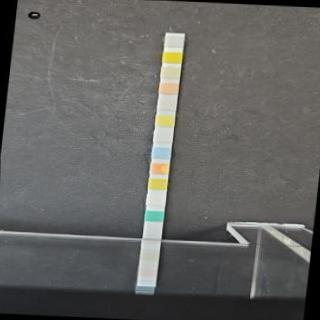mark: (160, 66, 180, 80), (151, 146, 171, 160), (146, 194, 166, 207), (158, 82, 179, 94), (150, 162, 169, 175), (163, 35, 183, 47), (162, 51, 182, 63), (154, 114, 174, 126), (152, 130, 172, 142), (147, 178, 167, 190), (157, 99, 176, 111), (144, 211, 164, 222)
